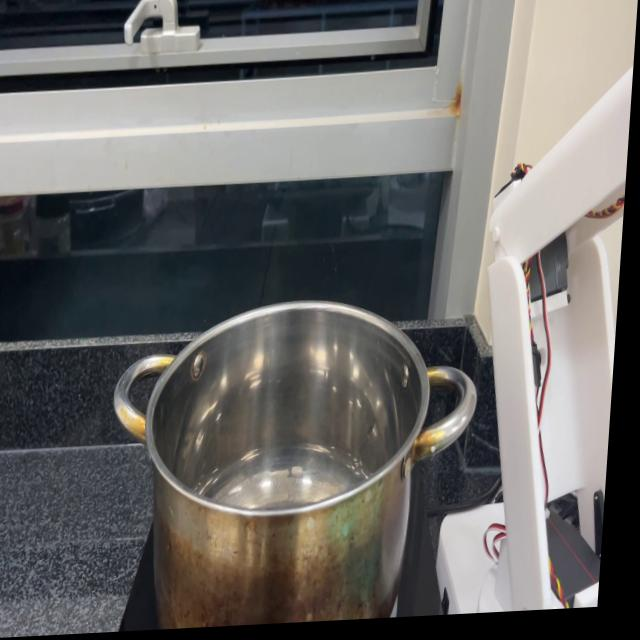cooking_pot: (109, 307, 487, 627)
